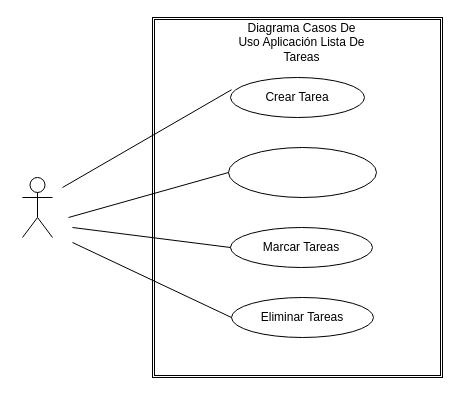
Image size: 460x395. Some labels were removed from this diagram. Each missing label, with the box of its shape:
Listar Tareas: (228, 146, 376, 198)
Usuario: (22, 176, 52, 238)
